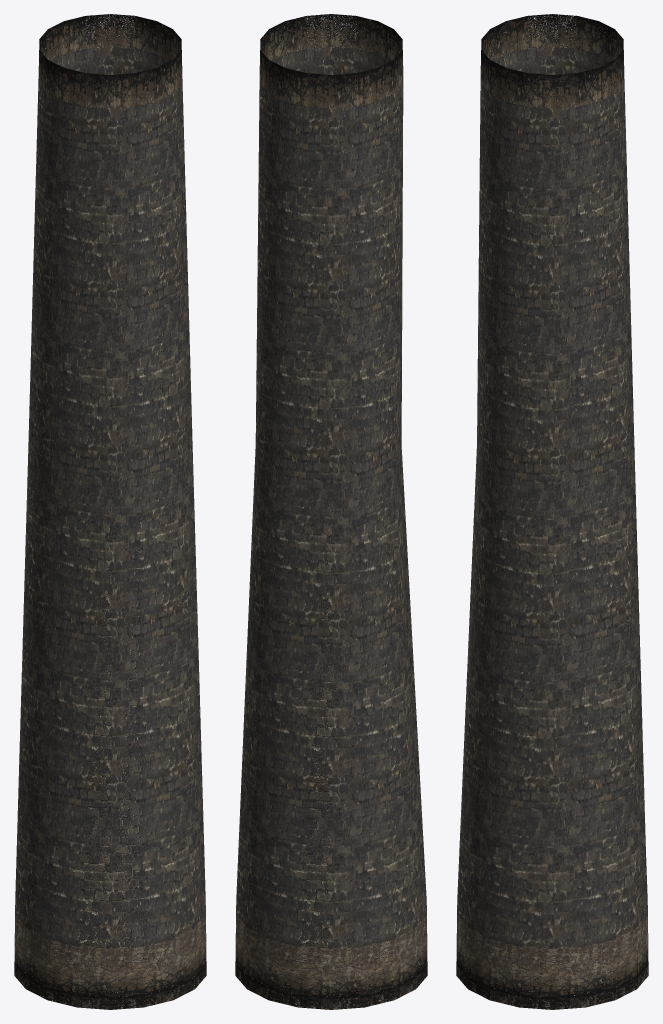
The model's file is chimney.DAE.
The picture shows the model from 3 angles, left to right: view 1: azimuth 30°, elevation 25°; view 2: azimuth 150°, elevation 25°; view 3: azimuth 270°, elevation 25°; orthographic projection.
Visible parts, largest first — view 1: Cylinder006, Object053; view 2: Cylinder006, Object053; view 3: Cylinder006, Object053.
Part boxes in pixels (box(x1,y1,x2,y2)): Cylinder006: box(15, 47, 205, 949); Object053: box(14, 14, 206, 1009); Cylinder006: box(236, 47, 426, 949); Object053: box(235, 14, 427, 1009); Cylinder006: box(457, 47, 647, 949); Object053: box(456, 14, 648, 1009).
Size of the model in its own units: 6.5 by 34 by 6.4.
